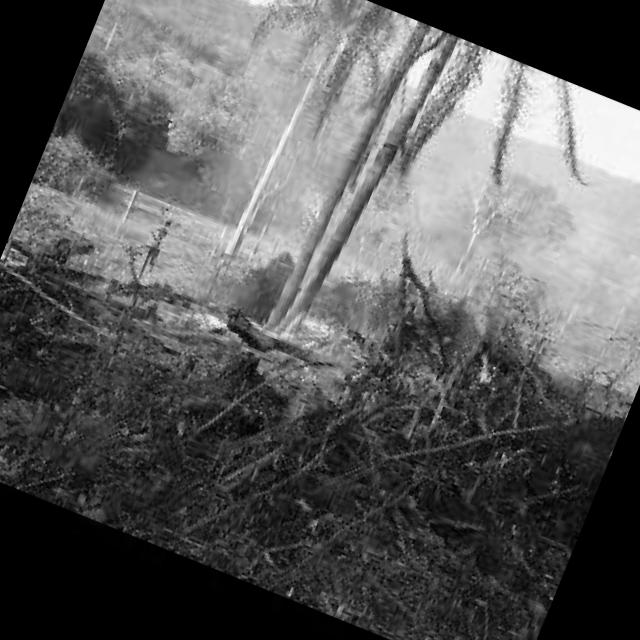fire: (456, 339, 509, 404), (394, 355, 451, 402)
